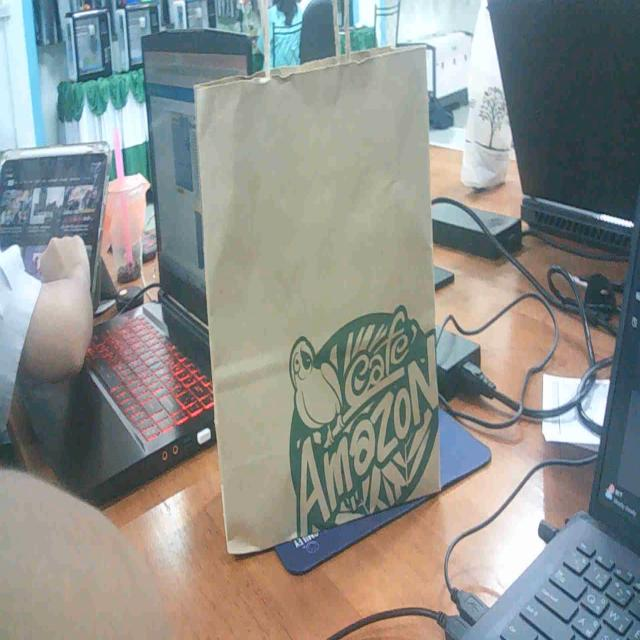bag: (216, 60, 456, 535)
